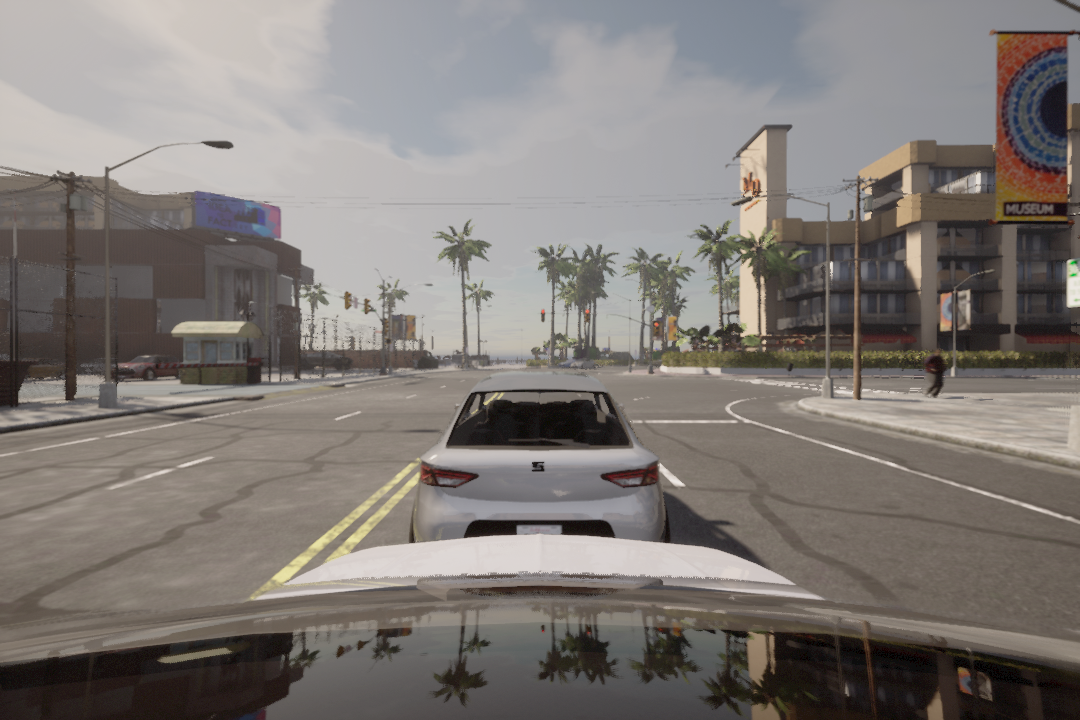TrafficLight: (651, 321, 661, 341), (583, 308, 590, 323), (540, 309, 546, 322)
